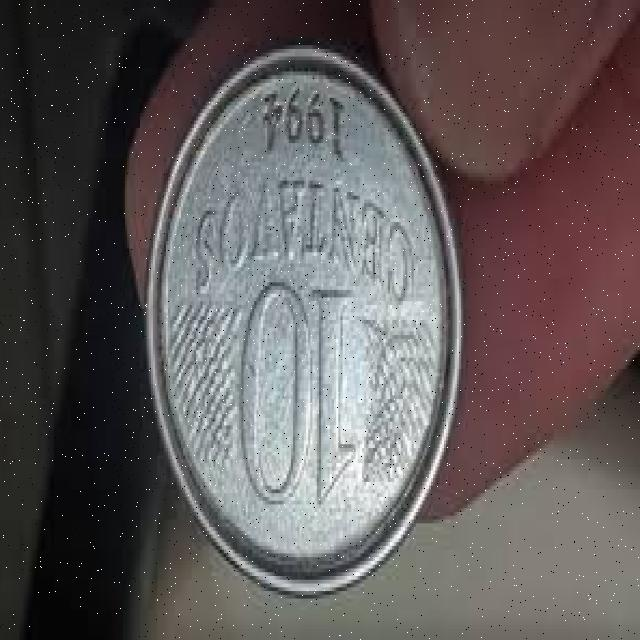10 cent: (154, 52, 456, 592)
